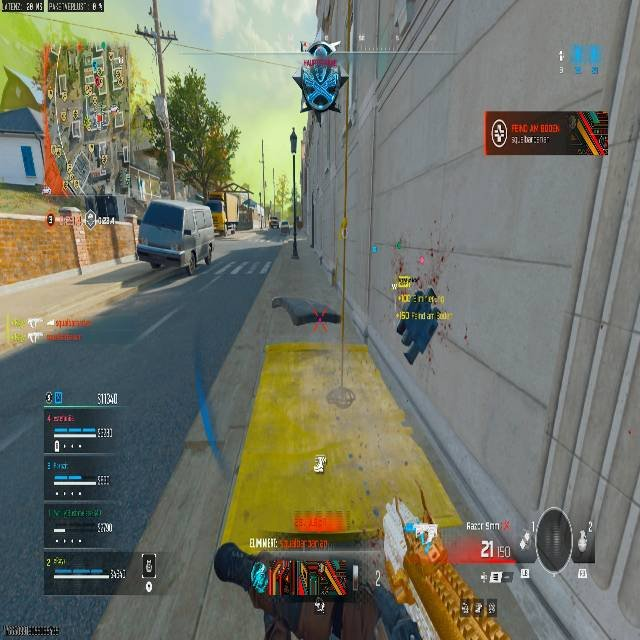head: (413, 283, 433, 300)
player: (294, 39, 347, 132), (396, 288, 441, 373)
